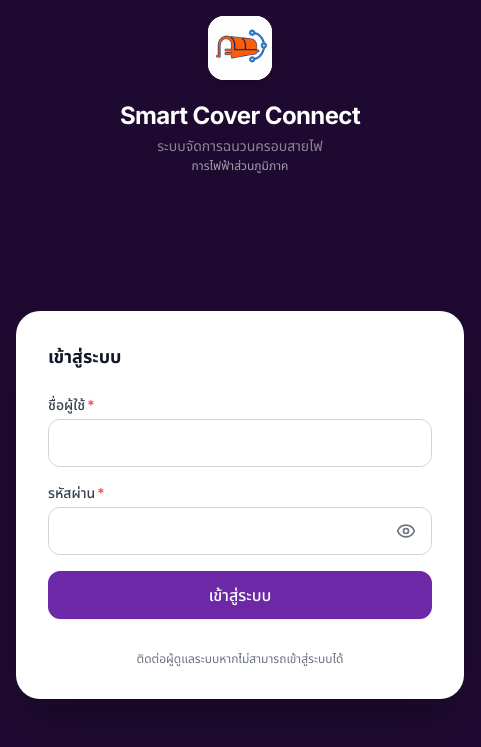
Test: LoginPage › surfaces backend rate-limit wait time without replaying credentials
Type "admin" into the field labelled "ชื่อผู้ใช้*". click: (240, 443)
box: 48,419 -> 432,467
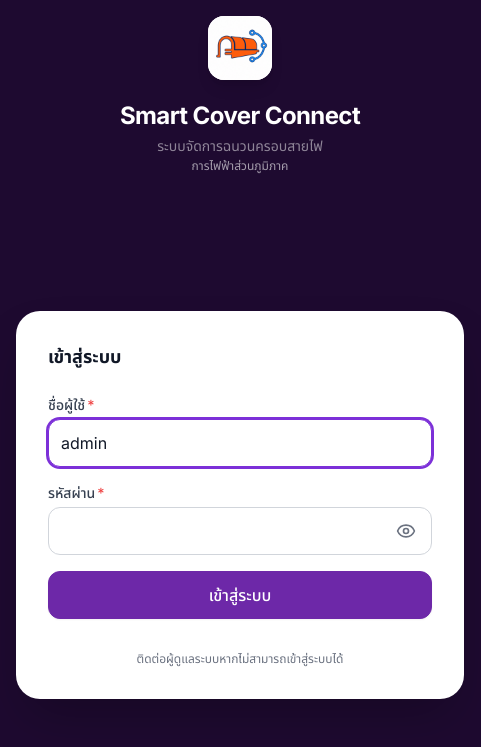
Type "wrong" into the password field labelled "รหัสผ่าน*". click: (240, 531)
box: 48,507 -> 432,555
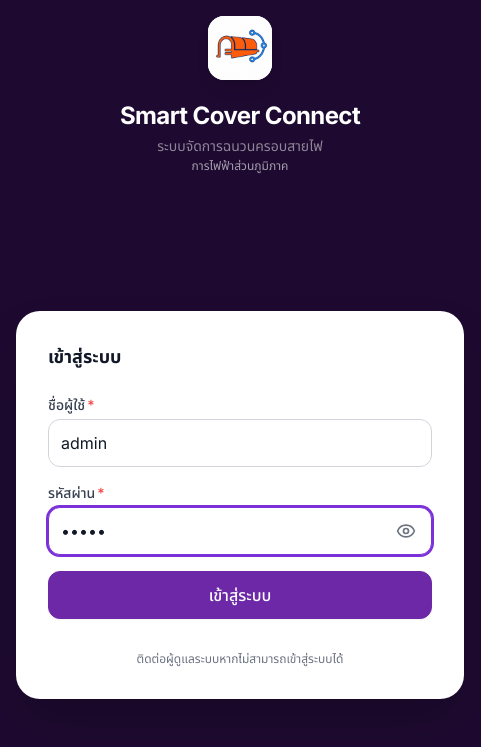
Click the button "เข้าสู่ระบบ". click: (240, 595)
box: 48,571 -> 432,619
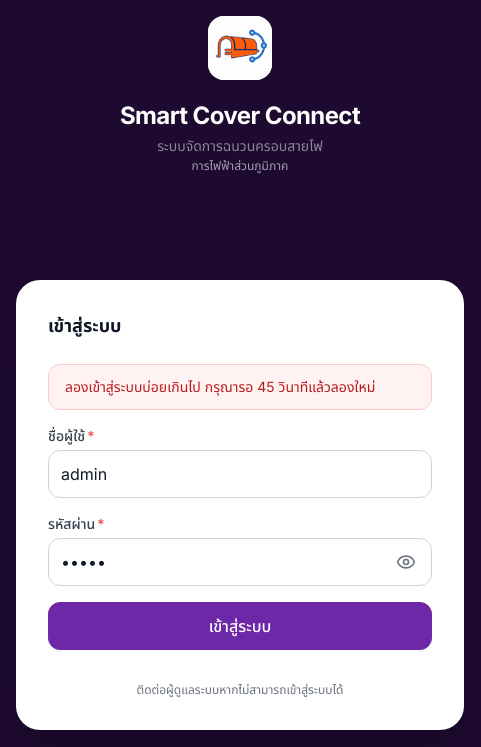
Expected: the message reads "ลองเข้าสู่ระบบบ่อยเกินไป กรุณารอ 45 วินาทีแล้วลองใหม่", 65,378 -> 375,395
